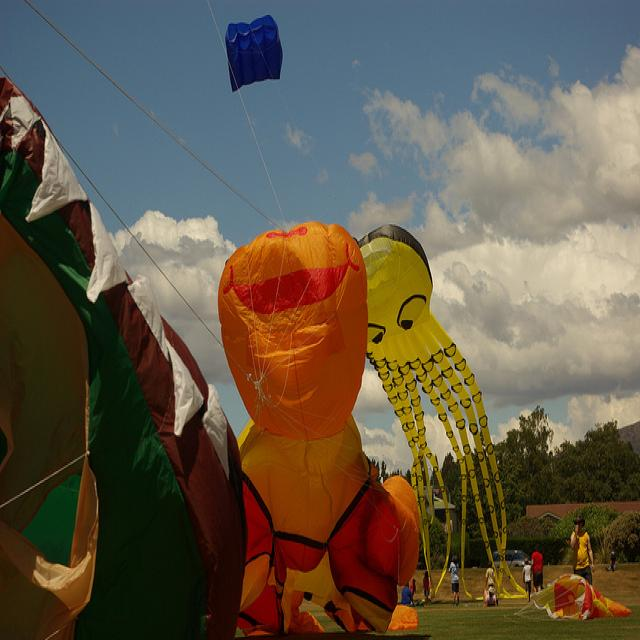Vehicle: (493, 550, 532, 568)
